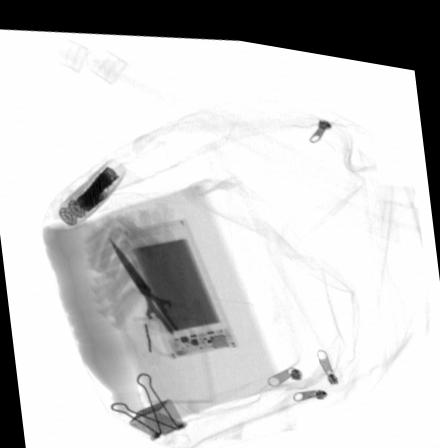Powerbank: (117, 210, 238, 353)
Scissors: (104, 231, 215, 354)
